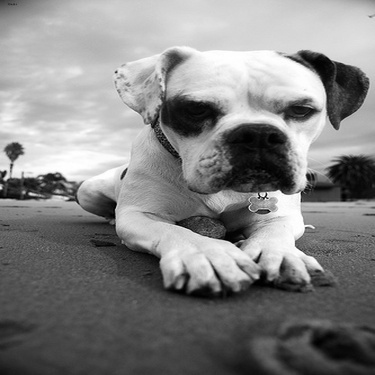dog: (65, 37, 372, 303)
